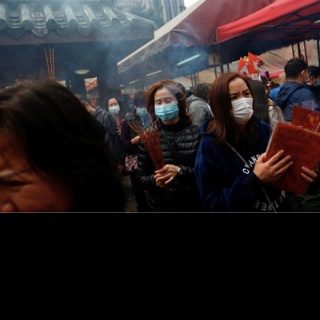with_mask: (229, 88, 255, 125), (153, 96, 179, 124), (107, 100, 120, 116), (136, 105, 149, 118)
